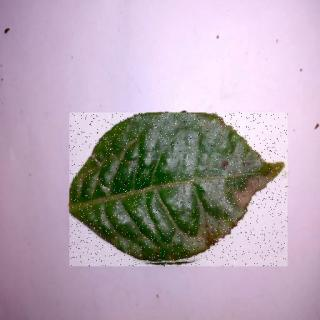Bird Eye Spot: (71, 114, 290, 268)
